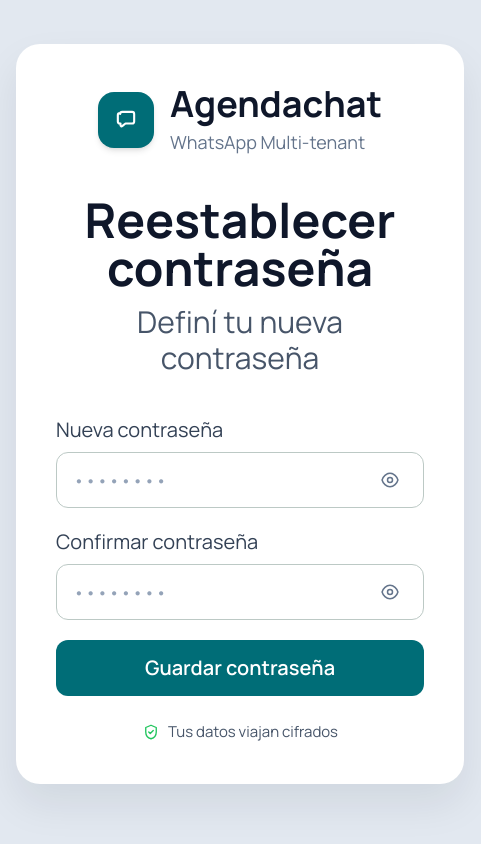
Test: ResetPasswordPage › shows API error message on failure
In the password field labelled "Nueva contraseña": [240, 480] box [56,452,424,508], type "secretpass"
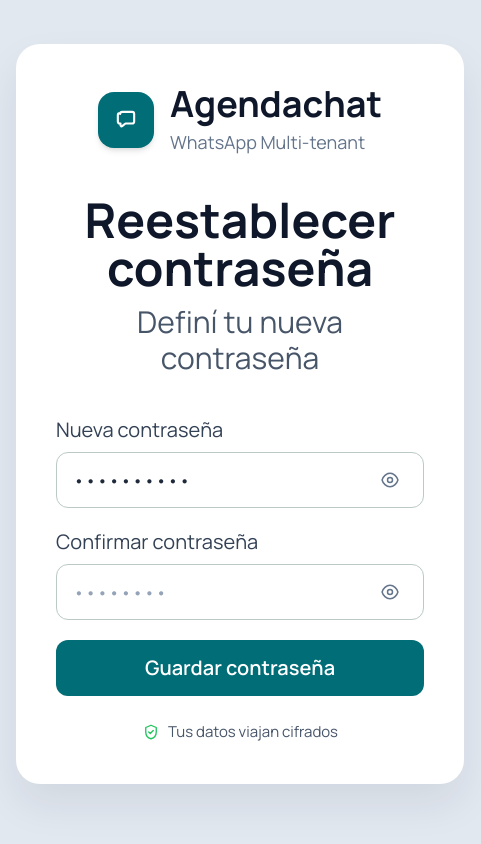
In the password field labelled "Confirmar contraseña": [240, 592] box [56,564,424,620], type "secretpass"
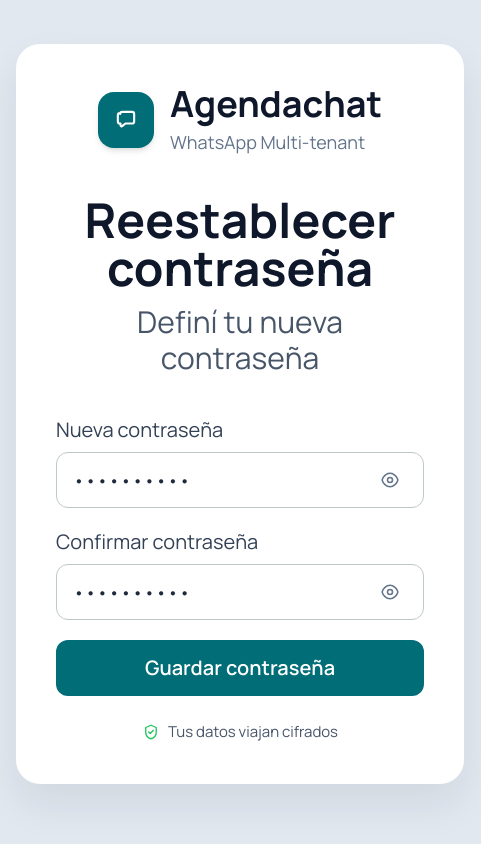
Click the button "Guardar contraseña": [240, 668] box [56,640,424,696]
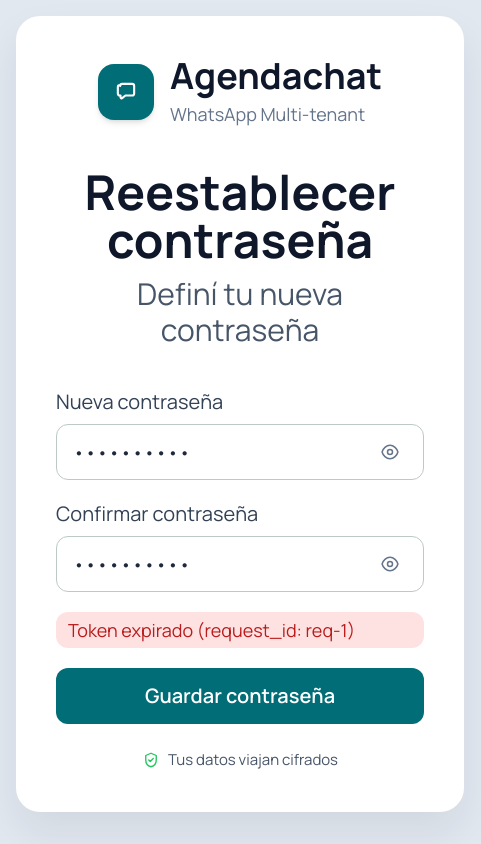
Expected: the text "Token expirado (request_id: req-1)" is shown, [56,612,424,648]
